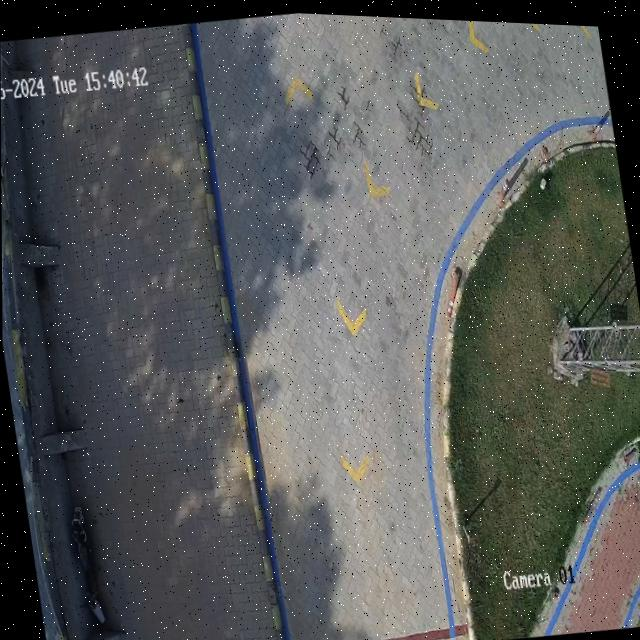No Car: (0, 10, 640, 640)
